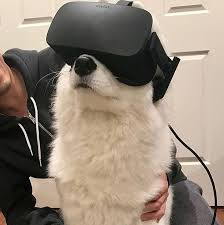oculus: (43, 1, 182, 98)
